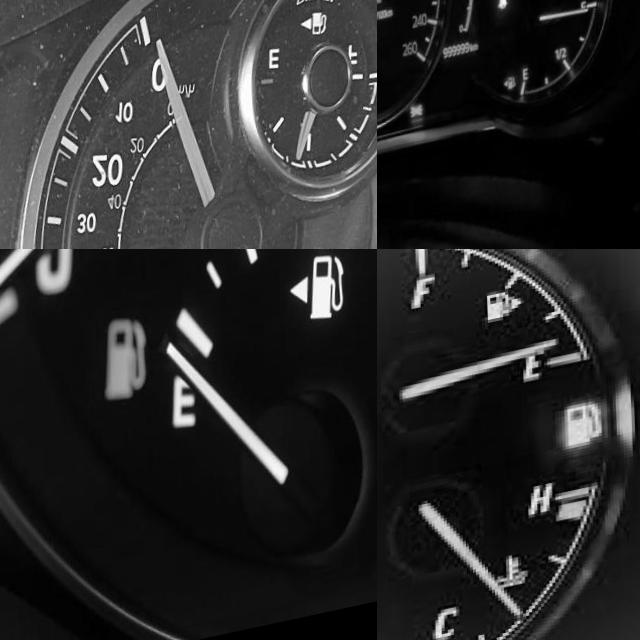High Engine Coolant Temperature: (491, 565, 524, 606)
Seat Belt: (494, 12, 505, 31)
